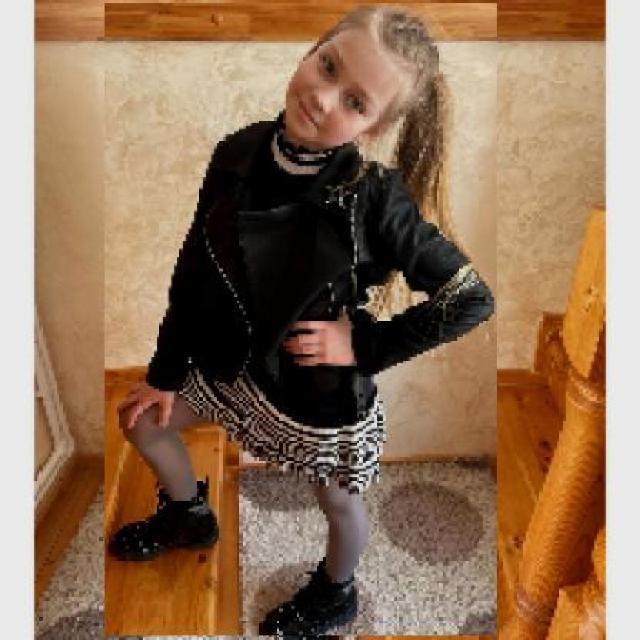child: (103, 3, 497, 637)
